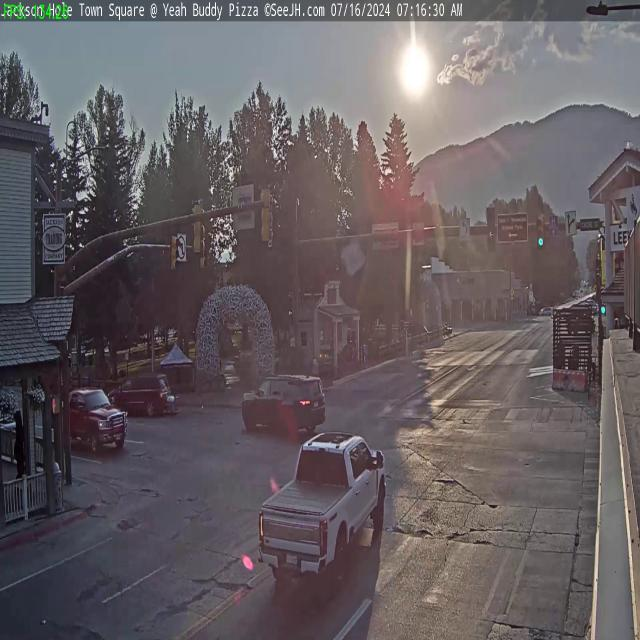pickup: (258, 431, 390, 624), (61, 388, 127, 460)
suv: (240, 368, 325, 439), (111, 374, 175, 419)
traffic light: (190, 198, 203, 255), (261, 185, 273, 244), (486, 207, 496, 250), (168, 230, 178, 268), (537, 214, 545, 248)
